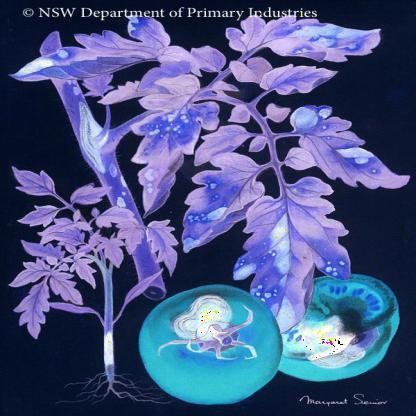Tomato Early blight leaf: (252, 181, 362, 333), (278, 98, 415, 192), (10, 12, 167, 88), (132, 84, 201, 212), (181, 154, 261, 249), (235, 13, 383, 59)
